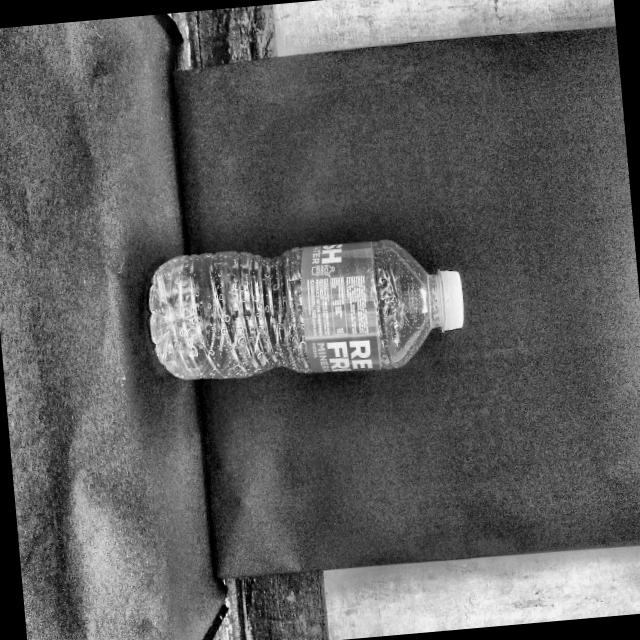Plastic-Bottle: (142, 228, 471, 390)
